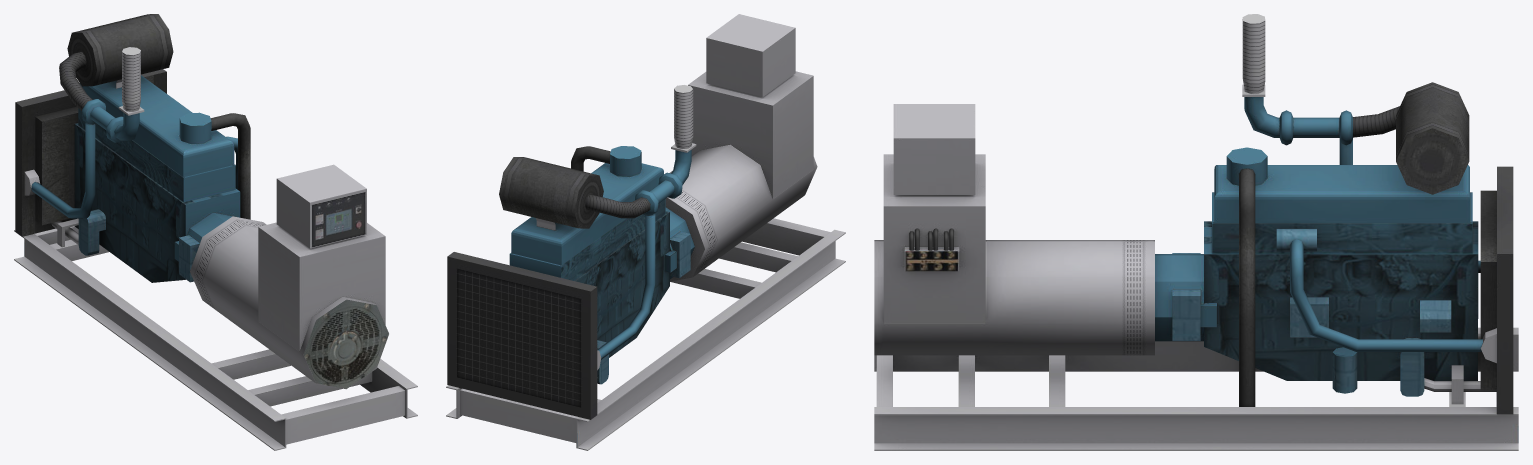
Rendered from GeneratorSmall.gltf.
The picture shows the model from 3 angles, left to right: view 1: azimuth 30°, elevation 25°; view 2: azimuth 150°, elevation 25°; view 3: azimuth 270°, elevation 25°; orthographic projection. The views are drawn at different scales.
Visible parts, largest first — view 1: Generator; view 2: Generator; view 3: Generator.
Boxes of the visible parts, x1,y1,x2,y2 form: Generator: (14,14,417,450); Generator: (446,14,845,450); Generator: (874,14,1518,450).
Bounding box in the file's own units: 15.23 × 28.54 × 47.36.
1 material, 1 textured.
